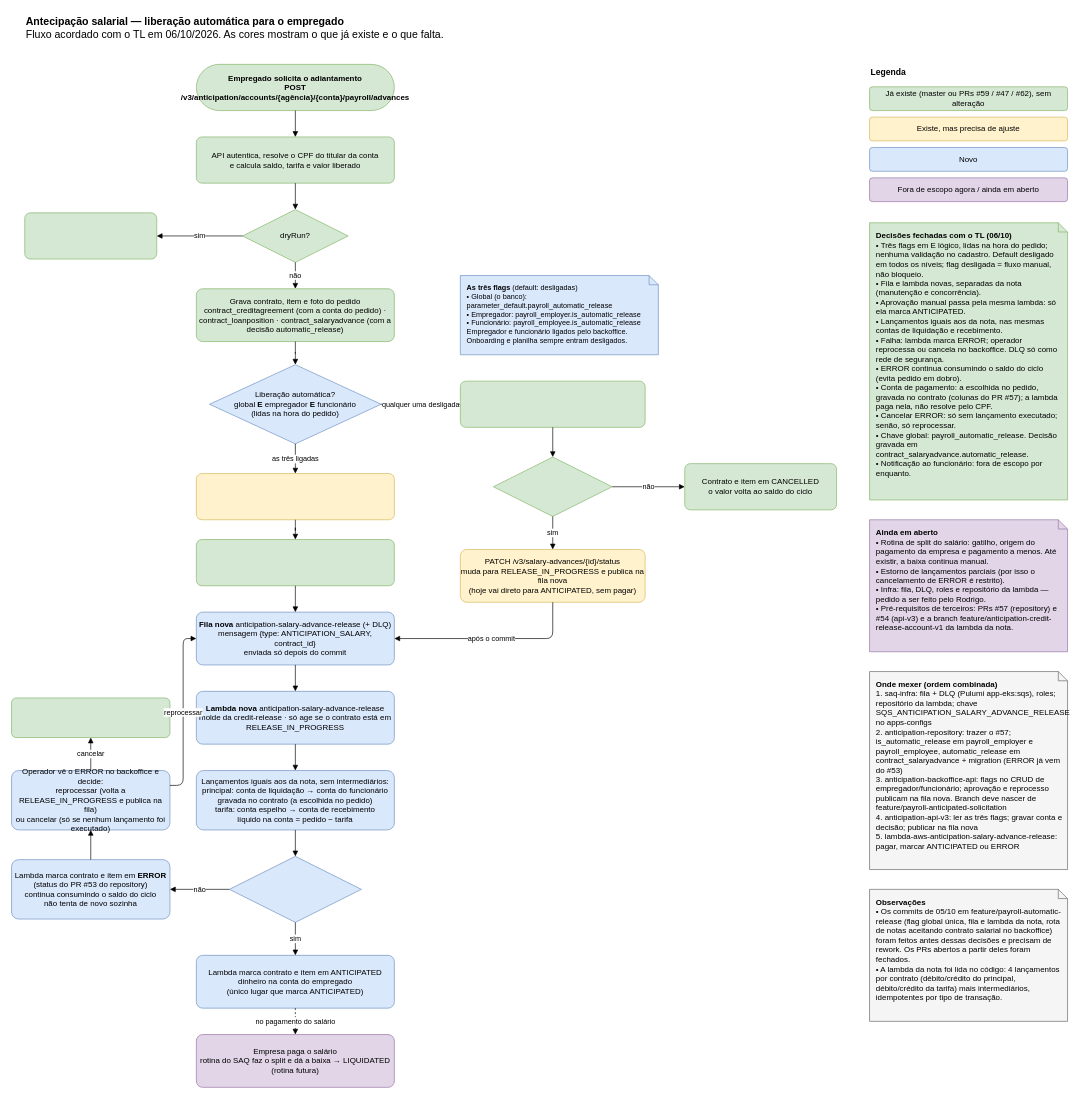
The diagram is 1082 pixels wide and 1099 high, and some of its shapes have lost their labels. The centre of each missing label's shape, as x and y in pixels:
"200 · simulação nada é gravado" belongs at [90,235].
"CANCELLED o valor volta ao saldo do ciclo" belongs at [90,717].
"Commit da transação 200 para o empregado" belongs at [295,562].
"Contrato e item ficam em PENDING_RELEASE aguardam o backoffice (como hoje)" belongs at [552,403].
"Contrato e item nascem em RELEASE_IN_PROGRESS" belongs at [295,496].
"Operador aprova?" belongs at [552,486].
"Pagamento concluído?" belongs at [295,889].
